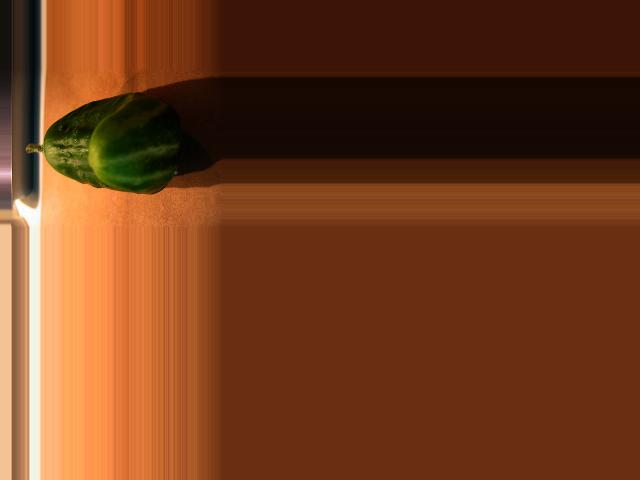cucumber: (25, 93, 181, 195)
